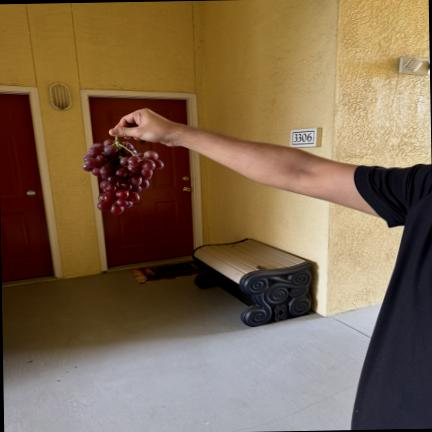grape_cluster: (82, 136, 163, 214), (232, 383, 357, 432)
